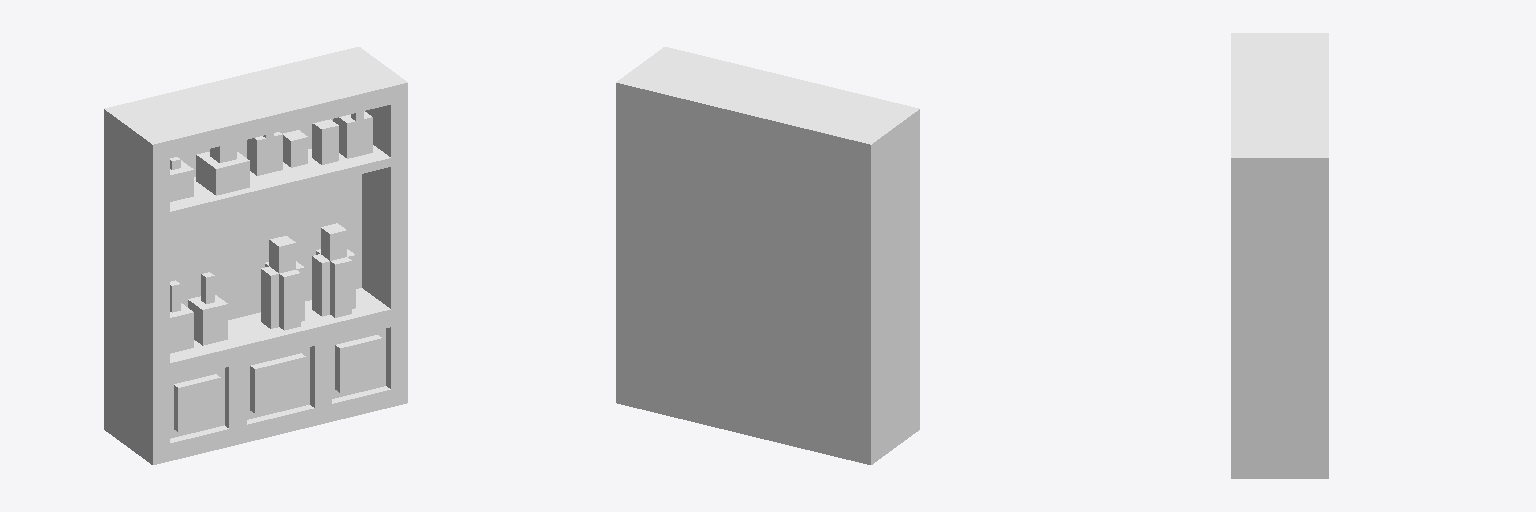
The model's file is Bar_Shelf.obj.
3 renders of one model, left to right at view 1: azimuth 30°, elevation 25°; view 2: azimuth 150°, elevation 25°; view 3: azimuth 270°, elevation 25°, orthographic.
Visible parts, largest first — view 1: Bar_Shelf; view 2: Bar_Shelf; view 3: Bar_Shelf.
Part boxes in pixels (left/top/right/bottom): Bar_Shelf: left=104, top=47, right=407, bottom=464; Bar_Shelf: left=616, top=47, right=919, bottom=464; Bar_Shelf: left=1231, top=33, right=1328, bottom=478.
Size of the model in its own units: 30 by 36 by 10.